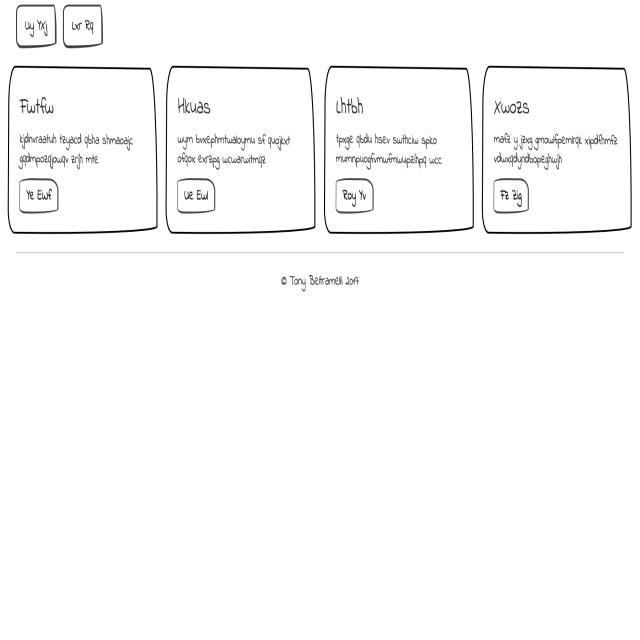Button: (12, 175, 70, 220), (333, 170, 379, 222), (172, 175, 224, 220), (486, 178, 535, 217)
Card: (165, 59, 318, 247), (9, 56, 159, 242), (482, 61, 635, 243), (324, 58, 473, 242)
Footer: (3, 246, 640, 639)
Heading 6: (171, 78, 223, 133), (16, 85, 62, 124), (330, 89, 374, 126), (492, 95, 540, 126)
Navigation Bar: (13, 0, 122, 50)
Paragraph: (490, 122, 626, 176), (171, 130, 298, 176), (15, 130, 138, 174), (331, 126, 453, 170)
